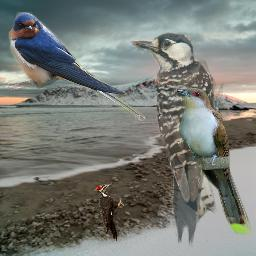Cuckoo: (175, 87, 251, 235)
Swallow: (8, 12, 146, 121)
Woodpecker: (129, 32, 237, 249), (94, 183, 125, 242)
